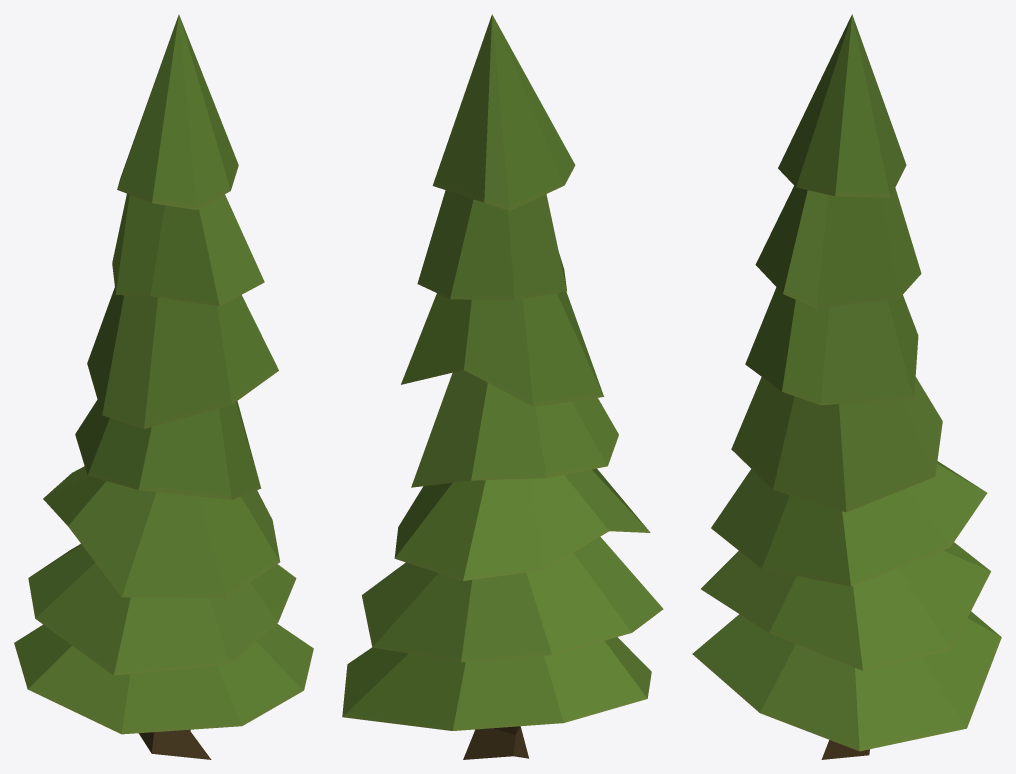
File: pinetree2.fbx
The picture shows the model from 3 angles, left to right: view 1: azimuth 30°, elevation 25°; view 2: azimuth 150°, elevation 25°; view 3: azimuth 270°, elevation 25°; orthographic projection.
Parts seen in each view (by area): view 1: pine2_LOD0; view 2: pine2_LOD0; view 3: pine2_LOD0.
Part boxes in pixels (x1,y1,x2,y2): pine2_LOD0: (14,14,313,759); pine2_LOD0: (342,14,663,759); pine2_LOD0: (692,14,1001,759).
Size of what is drawn, in the model's own units: 3.84 by 9.31 by 3.55.
